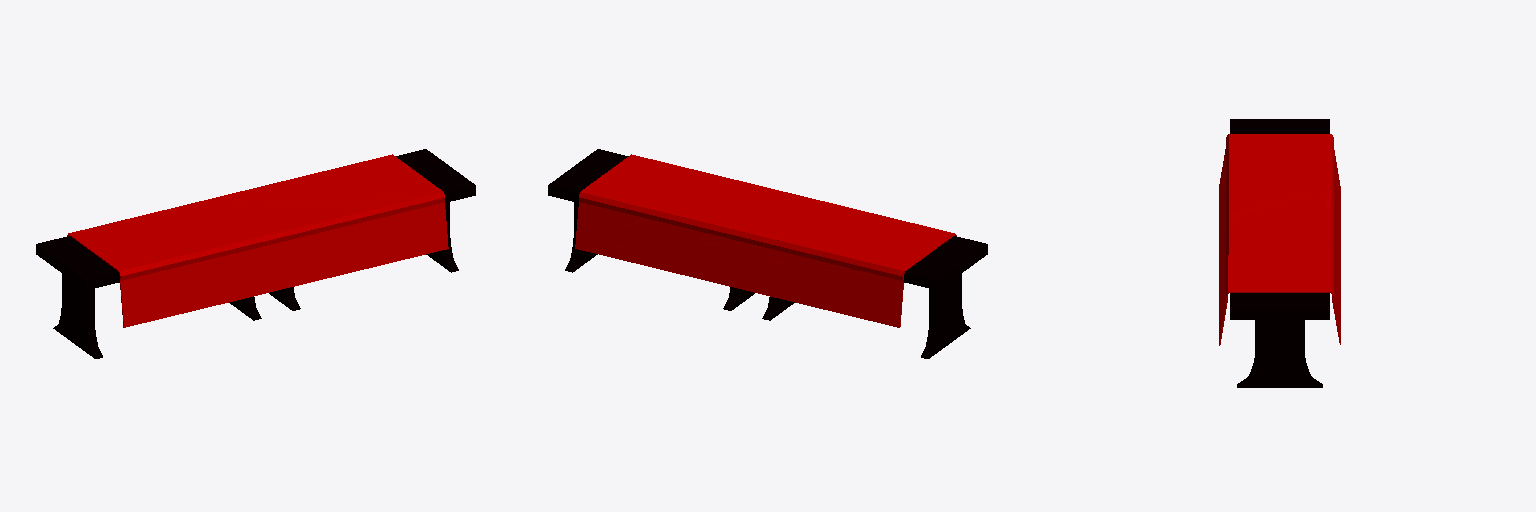
File: PartyTables.obj
3 renders of one model, left to right at view 1: azimuth 30°, elevation 25°; view 2: azimuth 150°, elevation 25°; view 3: azimuth 270°, elevation 25°, orthographic.
Visible parts, largest first — view 1: TableCloth_Plane.021, PartyTables_Cube.001; view 2: TableCloth_Plane.021, PartyTables_Cube.001; view 3: TableCloth_Plane.021, PartyTables_Cube.001.
Part boxes in pixels (left/top/right/bottom): TableCloth_Plane.021: left=67, top=154, right=448, bottom=327; PartyTables_Cube.001: left=36, top=149, right=475, bottom=358; TableCloth_Plane.021: left=575, top=154, right=956, bottom=327; PartyTables_Cube.001: left=548, top=149, right=987, bottom=358; TableCloth_Plane.021: left=1219, top=134, right=1340, bottom=345; PartyTables_Cube.001: left=1230, top=119, right=1329, bottom=387.
Bounding box in the file's own units: 4.04 × 0.8612 × 1.09.